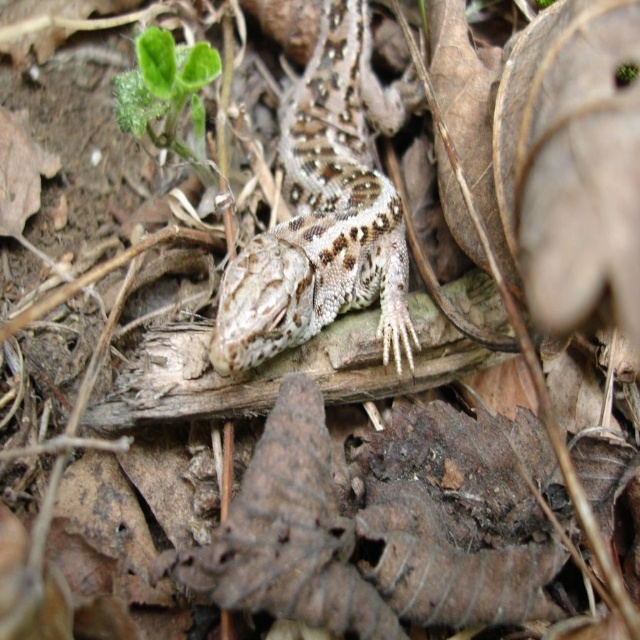Lizard: (208, 0, 422, 378)
